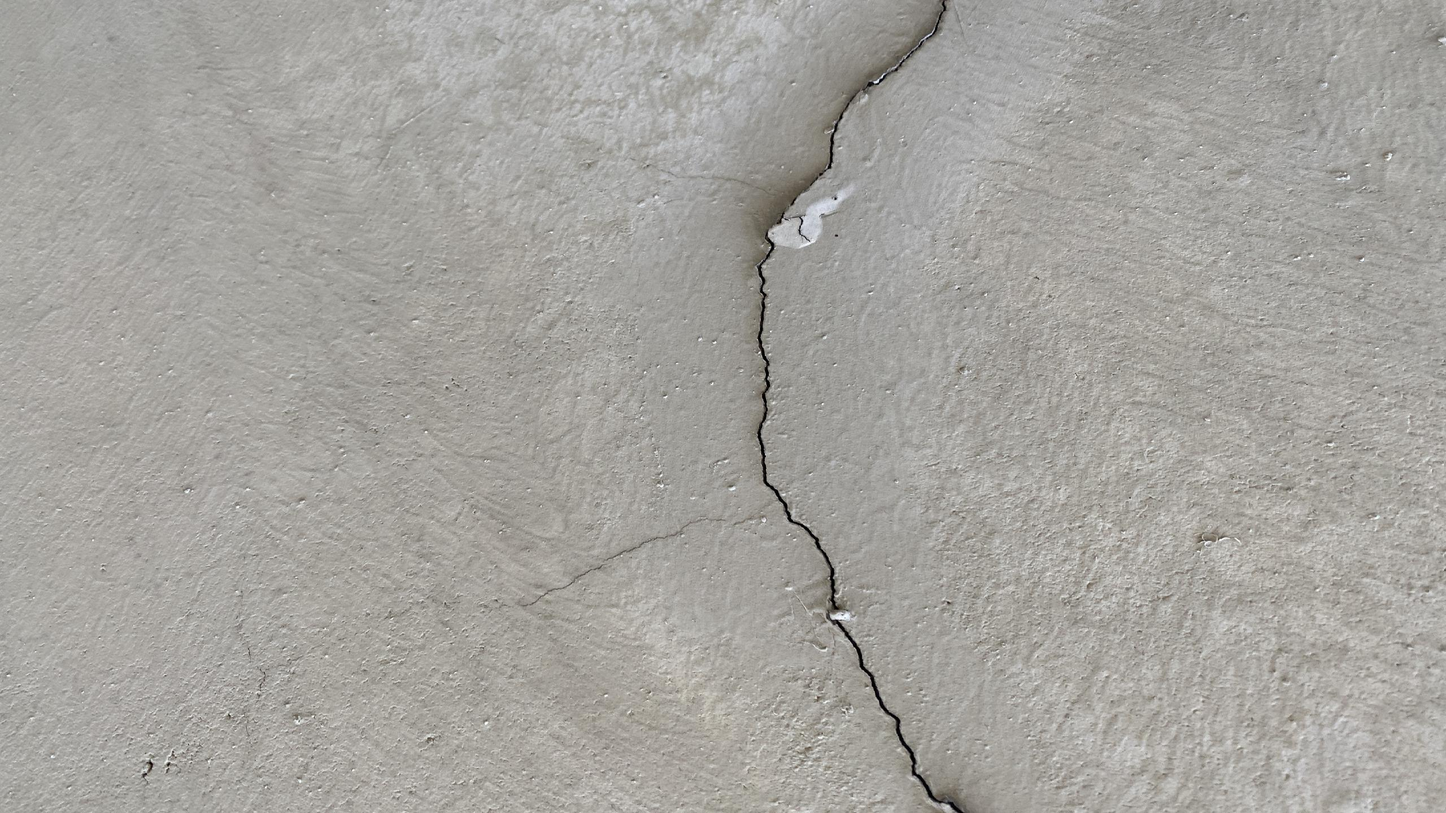crack: (756, 1, 964, 812)
